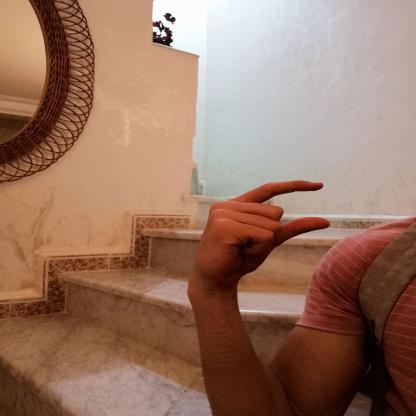DELL: (180, 169, 342, 290)
